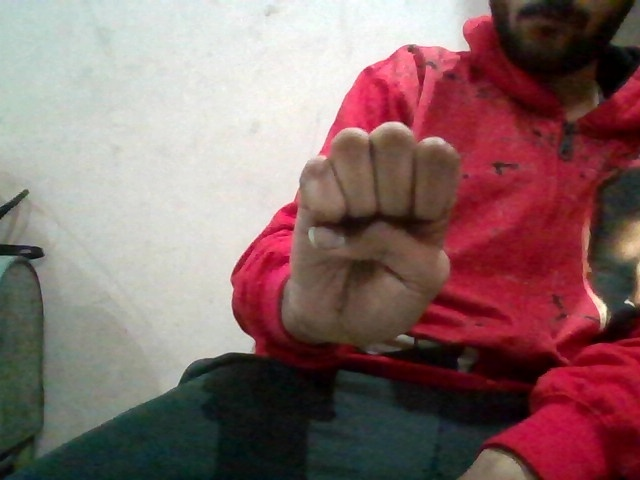E: (272, 110, 474, 362)
